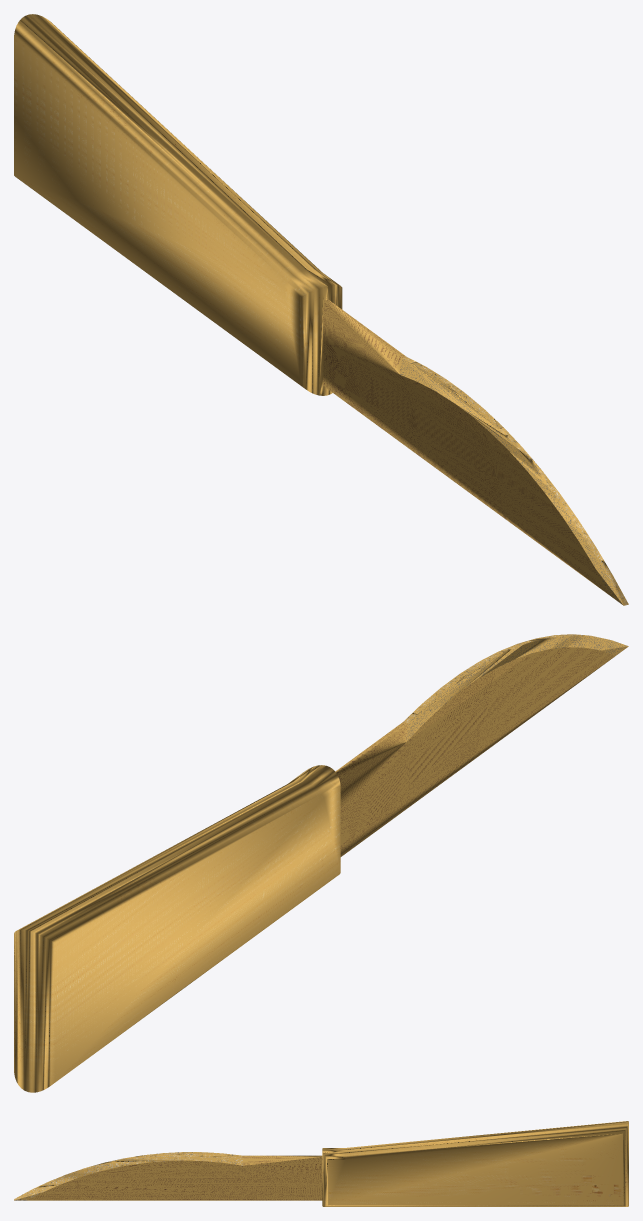
Rendered from model_align.obj.
3 renders of one model, top to bottom at view 1: azimuth 30°, elevation 25°; view 2: azimuth 150°, elevation 25°; view 3: azimuth 270°, elevation 25°, orthographic. The views are drawn at different scales.
Size of the model in its own units: 0.00939 by 0.0353 by 0.2363.
